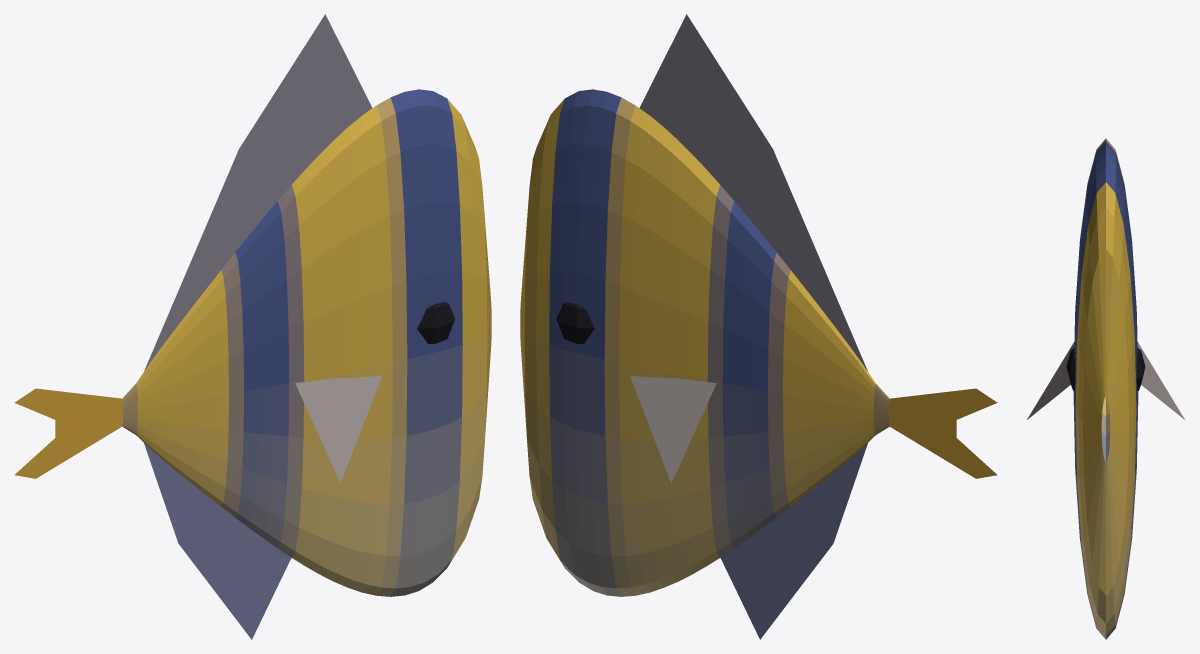
File: reef_angel.glb
3 views of the same model, side by side, from view 1: azimuth 30°, elevation 25°; view 2: azimuth 150°, elevation 25°; view 3: azimuth 270°, elevation 25° (orthographic). The views are drawn at different scales.
Parts seen in each view (by area): view 1: Body, Tail; view 2: Body, Tail; view 3: Body.
Boxes of the visible parts, x1,y1,x2,y2 form: Body: (122,14,491,639); Tail: (14,388,123,478); Body: (520,14,889,639); Tail: (888,388,997,478); Body: (1026,138,1185,639).
Size of the model in its own units: 1.1 by 1.34 by 0.33.
